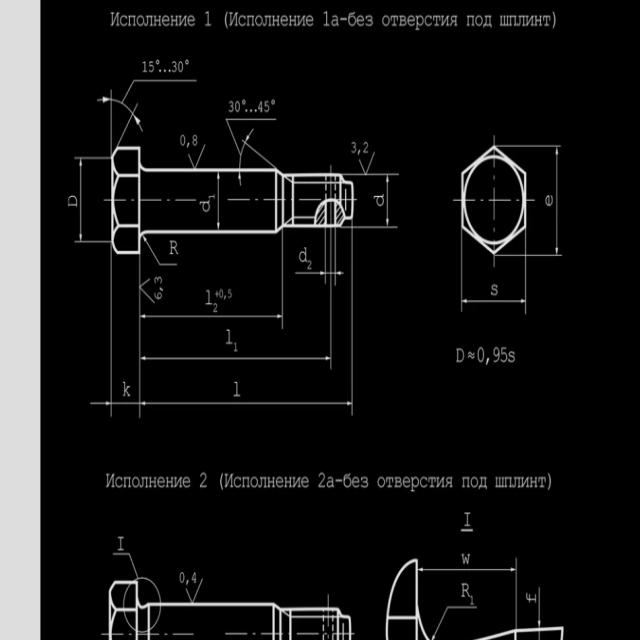marking_line: (98, 97, 146, 143), (142, 355, 330, 363), (142, 400, 352, 406), (421, 565, 515, 575), (554, 147, 561, 255), (141, 314, 281, 319), (78, 160, 83, 241), (464, 298, 525, 304), (385, 177, 391, 228), (216, 173, 221, 229), (535, 588, 541, 627), (295, 270, 324, 276), (89, 400, 110, 406), (337, 271, 344, 276)
numeric: (140, 56, 191, 76), (477, 344, 507, 369), (348, 139, 372, 158), (257, 97, 275, 119), (179, 133, 201, 150), (152, 274, 162, 303), (227, 98, 245, 113)
special_symbol: (223, 117, 279, 165), (445, 581, 478, 618), (111, 551, 139, 578), (143, 236, 168, 266), (187, 144, 211, 168), (184, 579, 206, 602), (358, 159, 376, 176), (141, 275, 152, 301)
